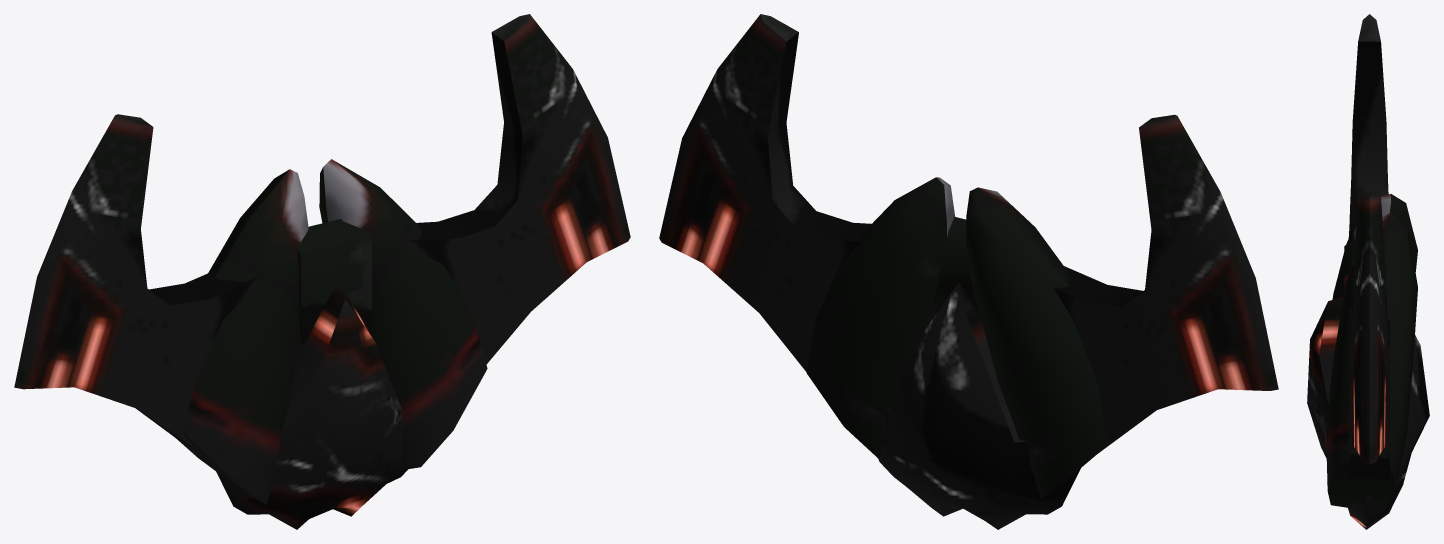
File: ship20a.fbx
The picture shows the model from 3 angles, left to right: view 1: azimuth 30°, elevation 25°; view 2: azimuth 150°, elevation 25°; view 3: azimuth 270°, elevation 25°; orthographic projection. The views are drawn at different scales.
Parts seen in each view (by area): view 1: ship20a; view 2: ship20a; view 3: ship20a.
Boxes of the visible parts, box(x1,y1,x2,y2) form: ship20a: box(14, 14, 630, 529); ship20a: box(659, 14, 1278, 529); ship20a: box(1307, 14, 1429, 529).
Size of the model in its own units: 11390 by 8076 by 2177.
Materials: 1 (1 with a texture image).
